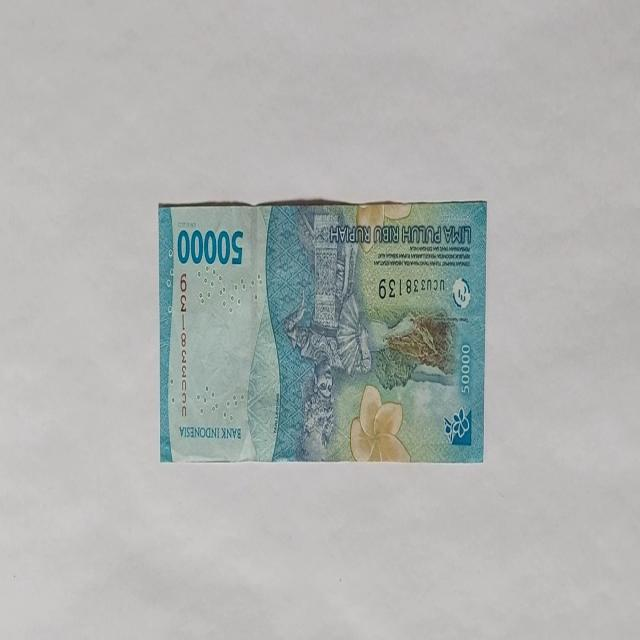lima puluh ribu rupiah: (158, 198, 488, 464), (176, 225, 244, 268)
